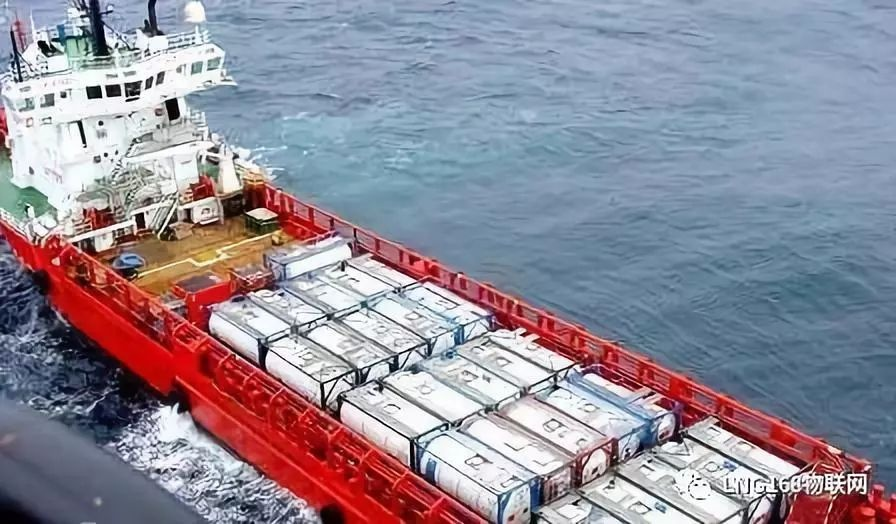Cargoship: (2, 2, 896, 524)
